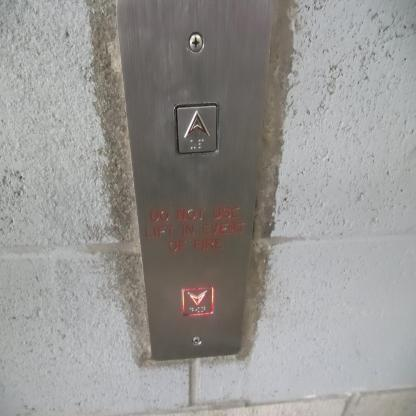down: (180, 284, 216, 318)
up: (173, 100, 221, 158)
